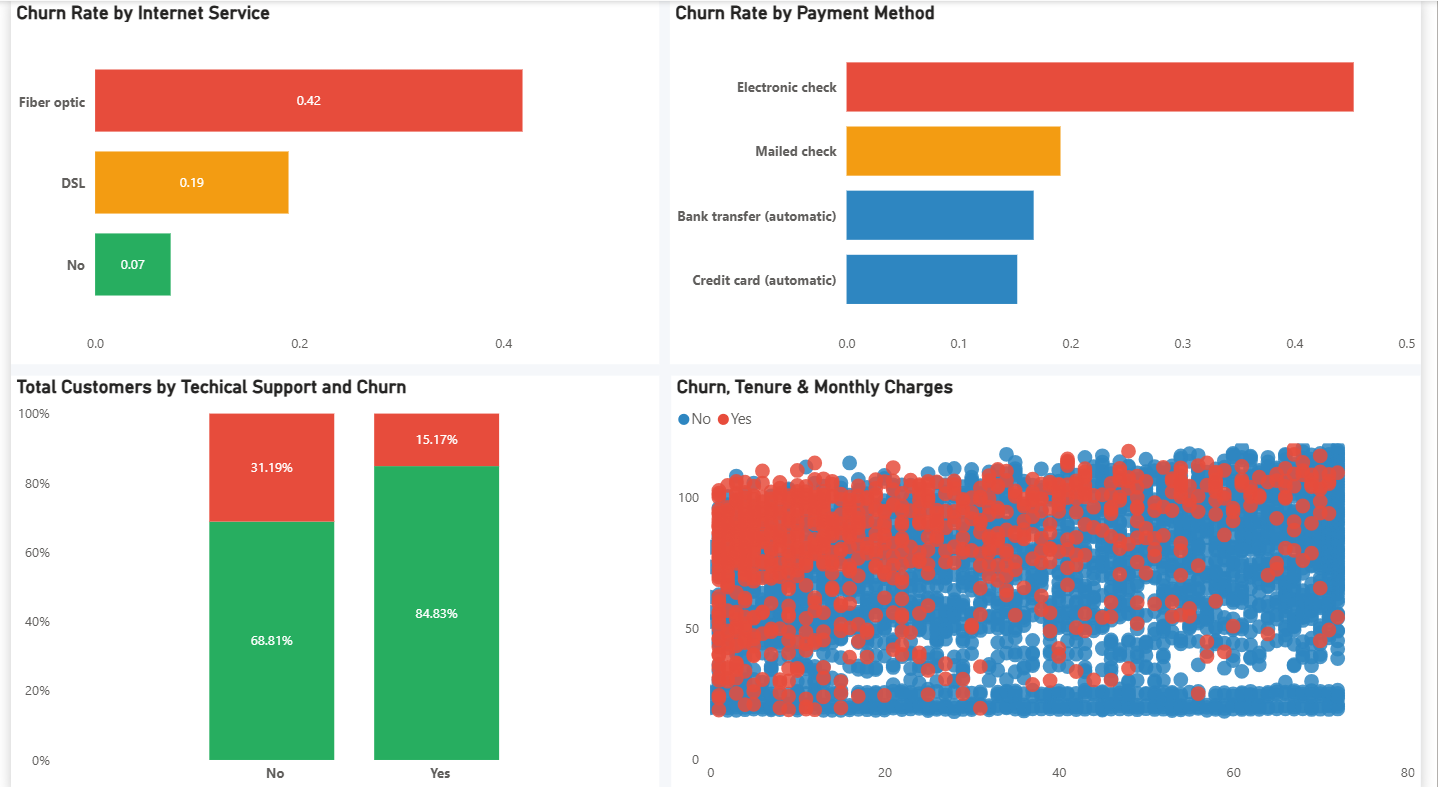

What the dashboard file says about the page in this screenshot:
{"tool":"powerbi","page":{"name":"Churn Drivers & Customer Behaviour","canvas":[1280,720],"ordinal":1},"visuals":[{"type":"clusteredBarChart","title":"Churn Rate by Internet Service","fields":{"Category":["Telco customer data clean.Internet Service"],"Y":["Telco customer data clean.Churn Rate %"]},"box":[0,0,588.8,329.9],"z":0},{"type":"hundredPercentStackedColumnChart","title":"Total Customers by Techical Support and Churn","fields":{"Category":["Telco customer data clean.Tech Support"],"Y":["Telco customer data clean.Total Customers"],"Series":["Telco customer data clean.Churn"]},"box":[0,340.7,588.8,379.6],"z":1},{"type":"barChart","title":"Churn Rate  by Payment Method","fields":{"Category":["Telco customer data clean.Payment Method"],"Y":["Telco customer data clean.Churn Rate %"]},"box":[598.6,0,681.4,330],"z":2},{"type":"scatterChart","title":"Churn, Tenure & Monthly Charges","fields":{"X":["Telco customer data clean.Tenure"],"Y":["Telco customer data clean.Monthly Charges"],"Series":["Telco customer data clean.Churn"]},"box":[599.5,340.7,680,379.6],"z":3}]}

Visuals, with their boxes in screenshot pixels (x1, y1, x2, y2), scaled from the page's 1280x720 canvas onto the 1438x787 screenshot:
"Churn Rate by Internet Service" clusteredBarChart: crop(0, 0, 661, 361)
"Total Customers by Techical Support and Churn" hundredPercentStackedColumnChart: crop(0, 372, 661, 786)
"Churn Rate  by Payment Method" barChart: crop(672, 0, 1437, 361)
"Churn, Tenure & Monthly Charges" scatterChart: crop(674, 372, 1437, 786)
